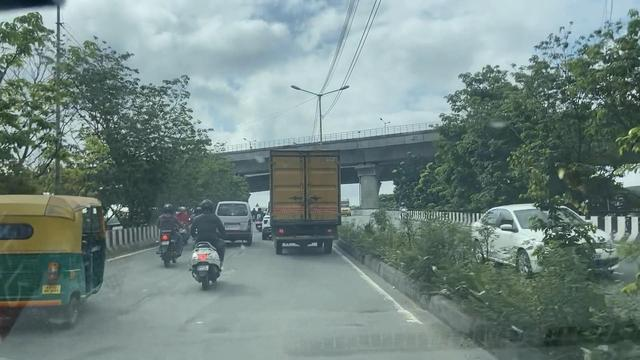HMV: (268, 151, 341, 256)
LMV: (0, 196, 104, 343), (189, 203, 229, 290), (159, 204, 182, 270)
